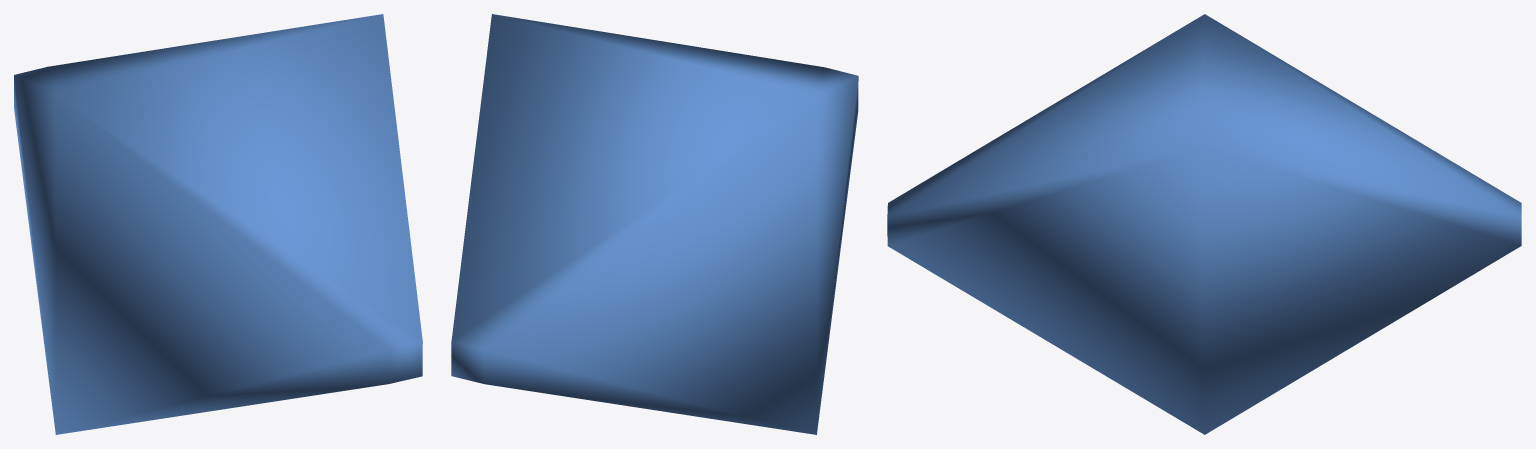
The model's file is klondike.fbx.
3 views of the same model, side by side, from view 1: azimuth 30°, elevation 25°; view 2: azimuth 150°, elevation 25°; view 3: azimuth 270°, elevation 25° (orthographic). The views are drawn at different scales.
Visible parts, largest first — view 1: Klondike; view 2: Klondike; view 3: Klondike.
Part boxes in pixels (x1,y1,x2,y2): Klondike: (14,14,422,434); Klondike: (451,14,858,434); Klondike: (887,14,1521,434).
Size of the model in its own units: 2.01 by 2.01 by 4.
